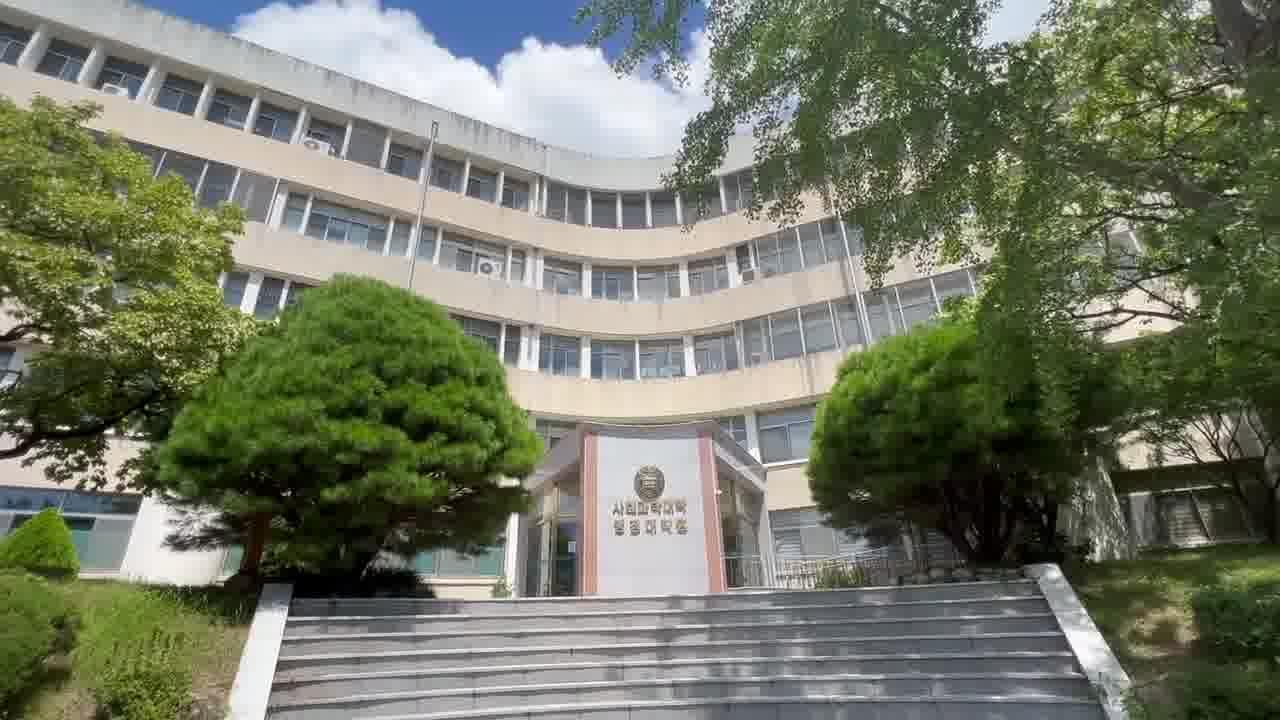building: (524, 214, 844, 598)
